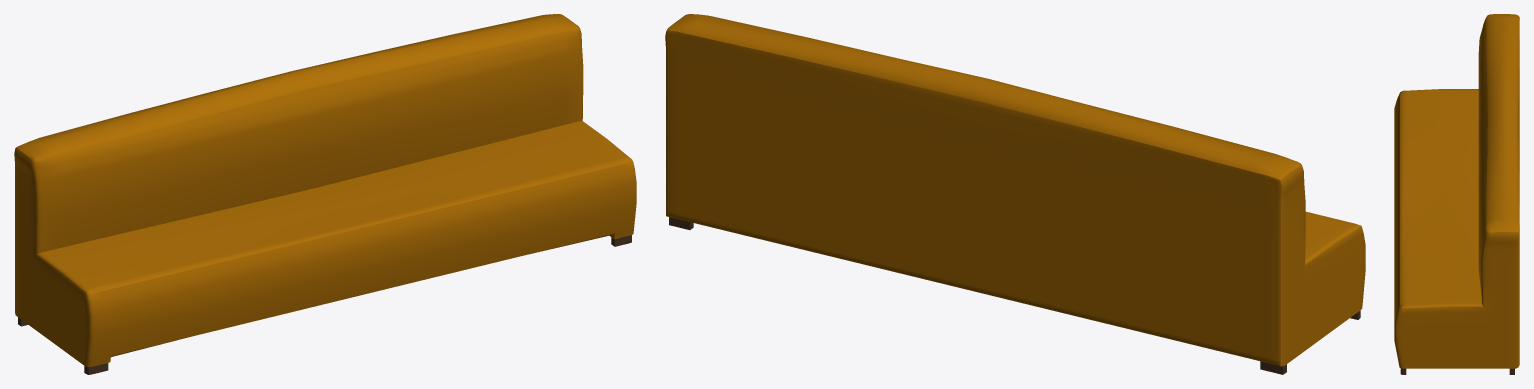
File: psyCouch03.fbx
The picture shows the model from 3 angles, left to right: view 1: azimuth 30°, elevation 25°; view 2: azimuth 150°, elevation 25°; view 3: azimuth 270°, elevation 25°; orthographic projection. The views are drawn at different scales.
Parts seen in each view (by area): view 1: couch; view 2: couch; view 3: couch.
Boxes of the visible parts, <box> form: couch: <box>14,14,636,374</box>; couch: <box>665,14,1365,374</box>; couch: <box>1394,14,1519,374</box>.
Size of the model in its own units: 587 by 194 by 142.
